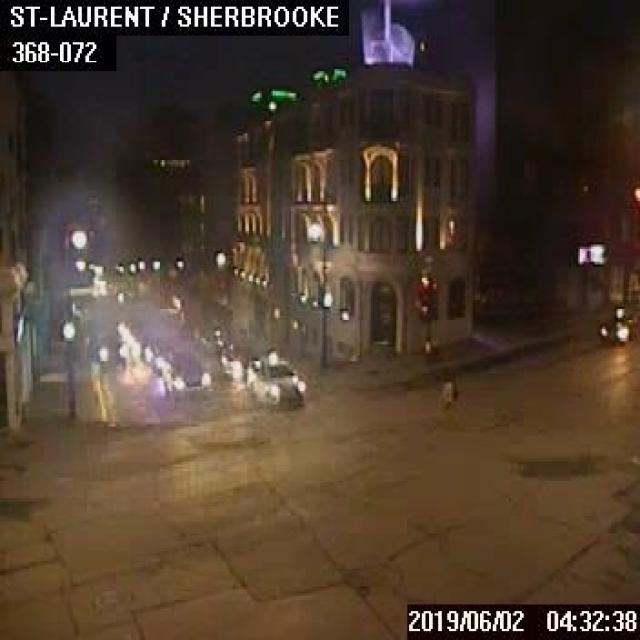vehicle: (244, 351, 306, 411), (162, 352, 209, 396), (598, 304, 638, 344), (86, 328, 126, 363)
